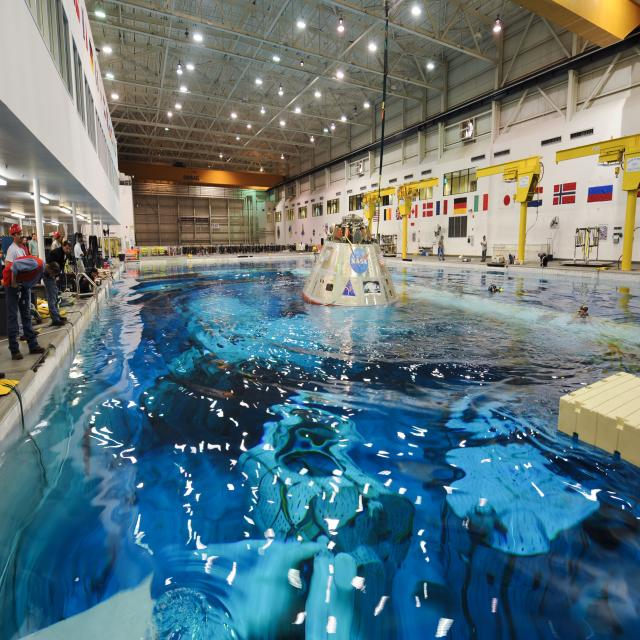Orion_capsule_mockup_(WEST)_located_on_far_end_of_pool: (302, 213, 398, 307)
